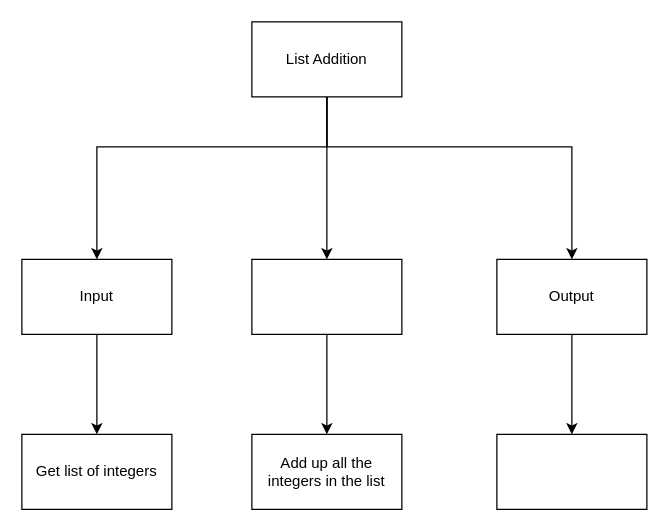
Some shapes in this 669 by 531 pixel diagram are drawn without their labels. The centre of each missing label's shape, as x and y in pixels:
Print Sum of integers in list: (x=571, y=471)
Process: (x=326, y=296)
